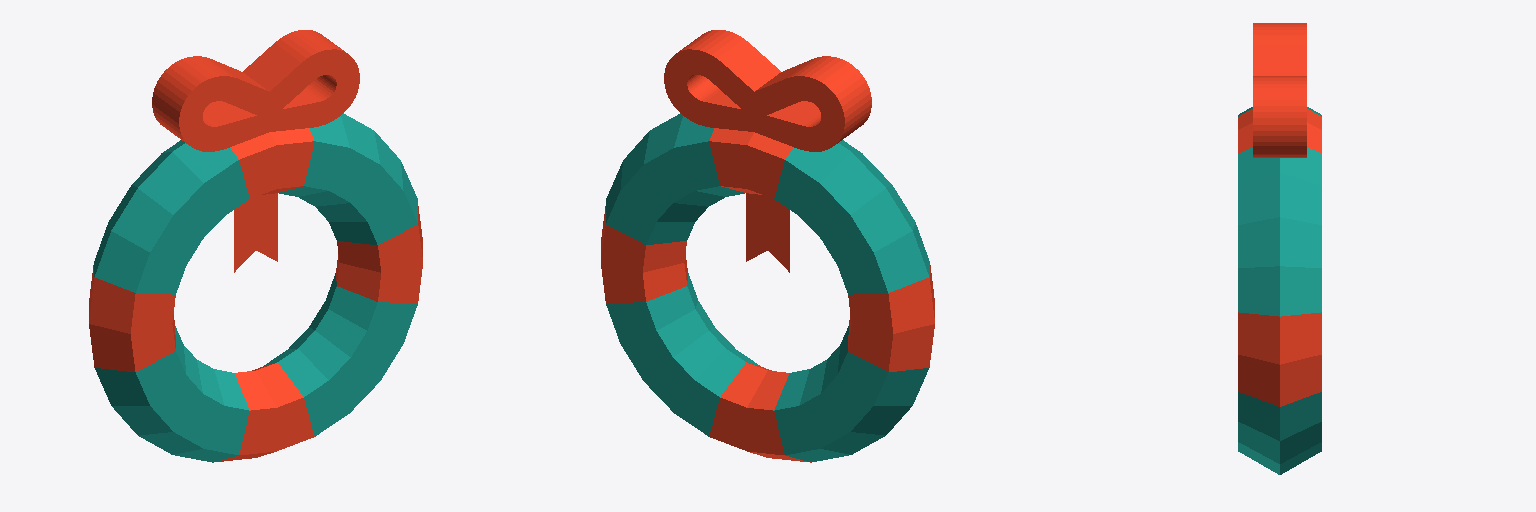
The model's file is wreath.obj.
3 views of the same model, side by side, from view 1: azimuth 30°, elevation 25°; view 2: azimuth 150°, elevation 25°; view 3: azimuth 270°, elevation 25° (orthographic).
Parts seen in each view (by area): view 1: wreath, tie; view 2: wreath, tie; view 3: wreath, tie.
Part boxes in pixels (bbox=[...]): wreath: bbox=[89, 113, 422, 462]; tie: bbox=[152, 30, 359, 151]; wreath: bbox=[601, 113, 934, 462]; tie: bbox=[664, 30, 871, 151]; wreath: bbox=[1238, 107, 1321, 474]; tie: bbox=[1253, 23, 1306, 157].
Bounding box in the file's own units: 0.5544 × 0.6402 × 0.12.